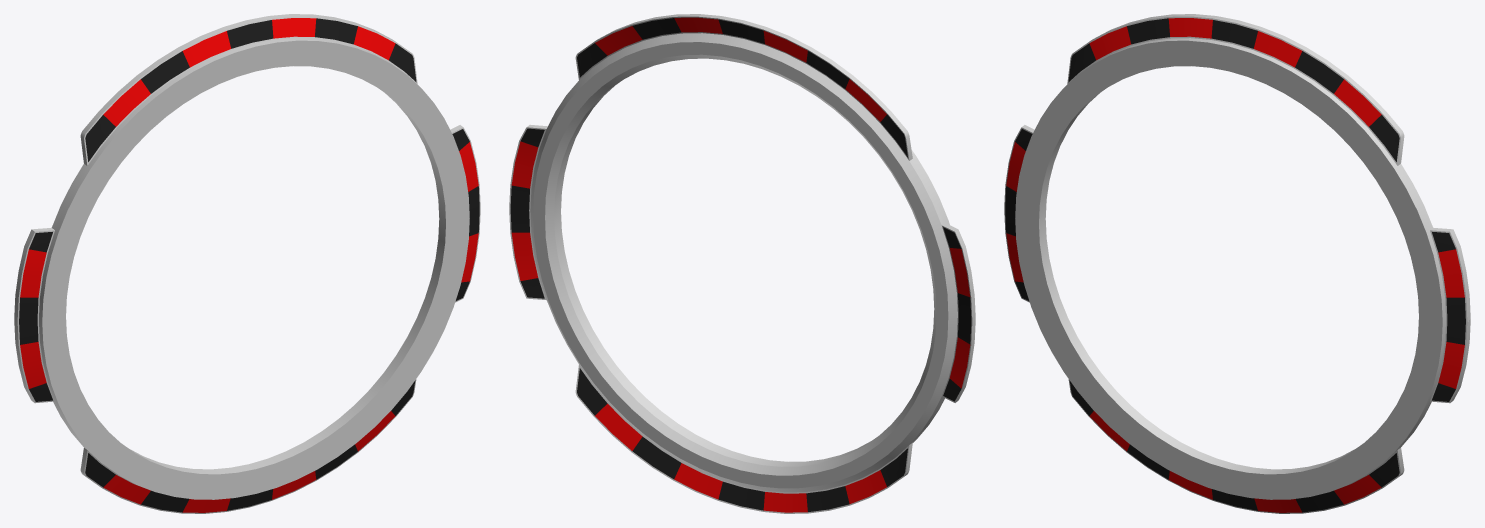
File: engineoff.FBX
The picture shows the model from 3 angles, left to right: view 1: azimuth 30°, elevation 25°; view 2: azimuth 150°, elevation 25°; view 3: azimuth 330°, elevation 25°; orthographic projection.
Visible parts, largest first — view 1: EngineOff; view 2: EngineOff; view 3: EngineOff.
Part boxes in pixels (left/top/right/bottom): EngineOff: left=14, top=14, right=480, bottom=513; EngineOff: left=509, top=14, right=975, bottom=513; EngineOff: left=1004, top=14, right=1470, bottom=513.
Bounding box in the file's own units: 19498 × 19500 × 750.
